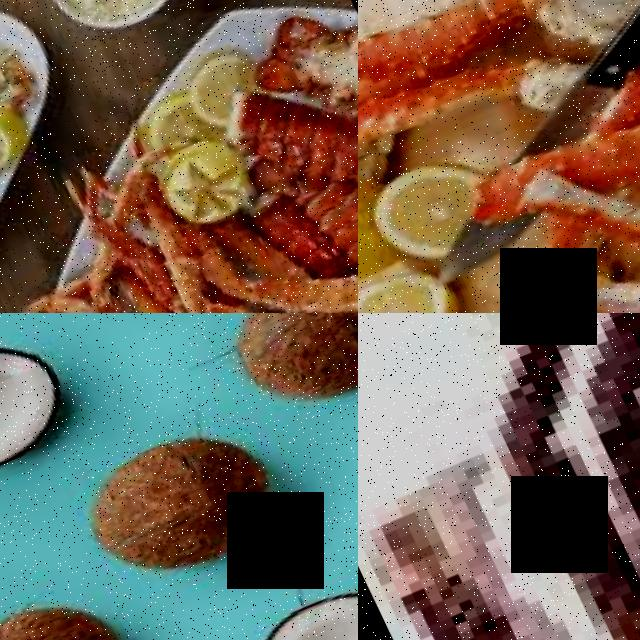coconut: (60, 400, 287, 605), (208, 313, 358, 431), (0, 313, 80, 507), (218, 547, 358, 640), (0, 568, 144, 640)
crab: (358, 0, 622, 200), (478, 319, 640, 640), (497, 73, 640, 313), (82, 190, 287, 313), (136, 233, 358, 313)
